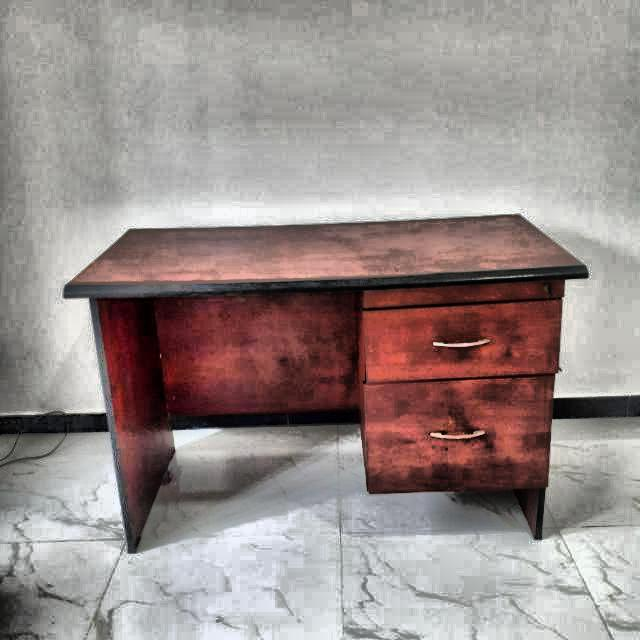mesa: (50, 188, 617, 577)
